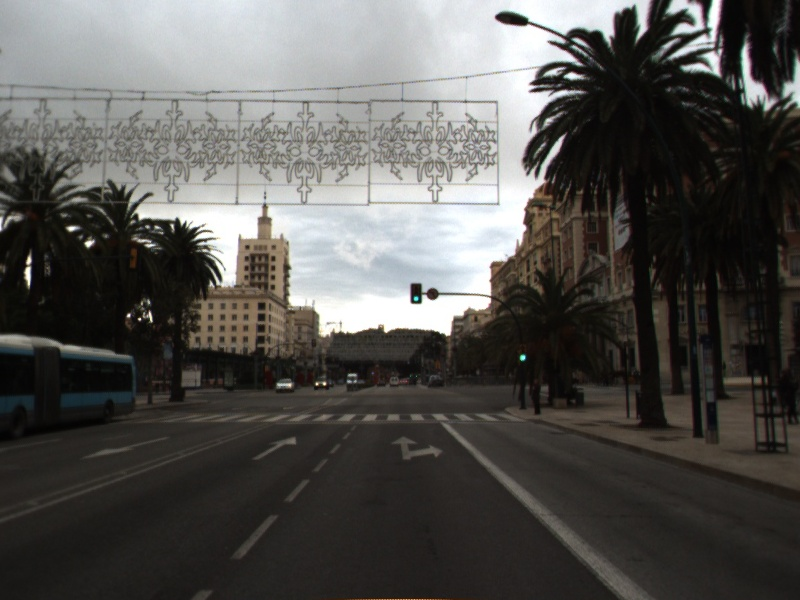STRAIGHT: (249, 434, 299, 462)
STRAIGHT_RIGHT: (387, 433, 445, 462)
